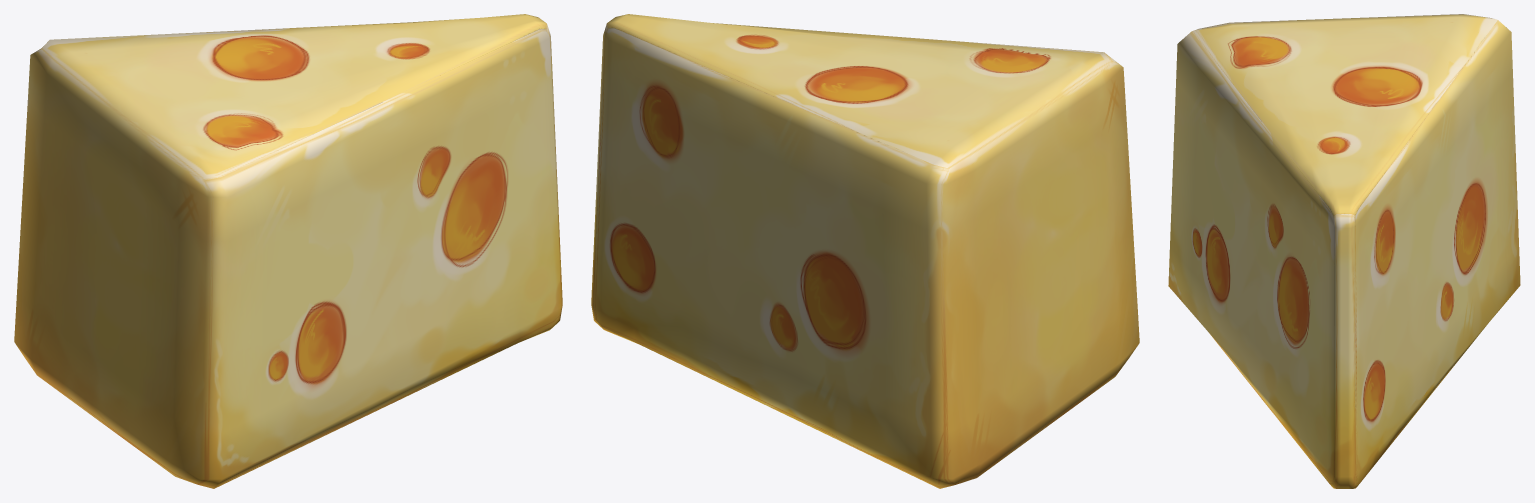
Rendered from Queso.fbx.
3 views of the same model, side by side, from view 1: azimuth 30°, elevation 25°; view 2: azimuth 150°, elevation 25°; view 3: azimuth 270°, elevation 25° (orthographic). The views are drawn at different scales.
Parts seen in each view (by area): view 1: Queso_Bueno_01; view 2: Queso_Bueno_01; view 3: Queso_Bueno_01.
Boxes of the visible parts, x1,y1,x2,y2 form: Queso_Bueno_01: (14,14,562,488); Queso_Bueno_01: (591,14,1139,488); Queso_Bueno_01: (1168,14,1520,488).
Size of the model in its own units: 4.71 by 3.21 by 3.51.
Materials: 1 (1 with a texture image).
